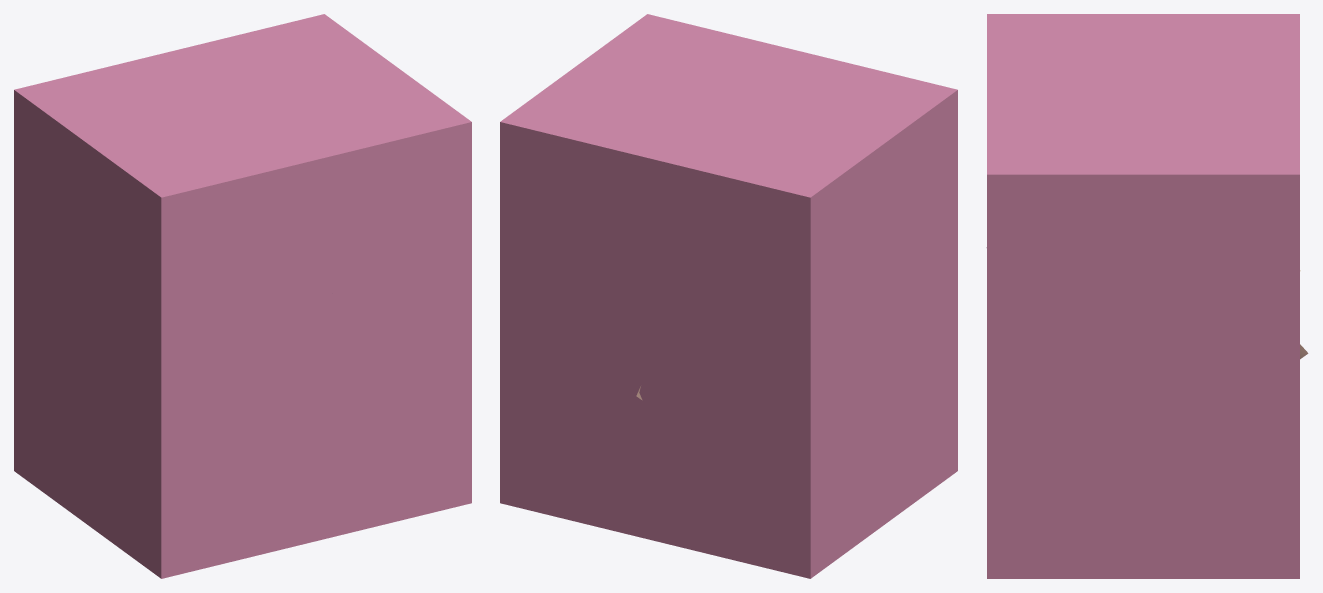
Rendered from tree_oak_blocker_a.dae.
3 renders of one model, left to right at view 1: azimuth 30°, elevation 25°; view 2: azimuth 150°, elevation 25°; view 3: azimuth 270°, elevation 25°, orthographic. The views are drawn at different scales.
Visible parts, largest first — view 1: Untitled; view 2: Untitled; view 3: Untitled.
Part boxes in pixels (<box>): Untitled: <box>14,14,471,578</box>; Untitled: <box>500,14,957,578</box>; Untitled: <box>987,14,1299,578</box>.
Size of the model in its own units: 6.33 by 5.37 by 7.57.
